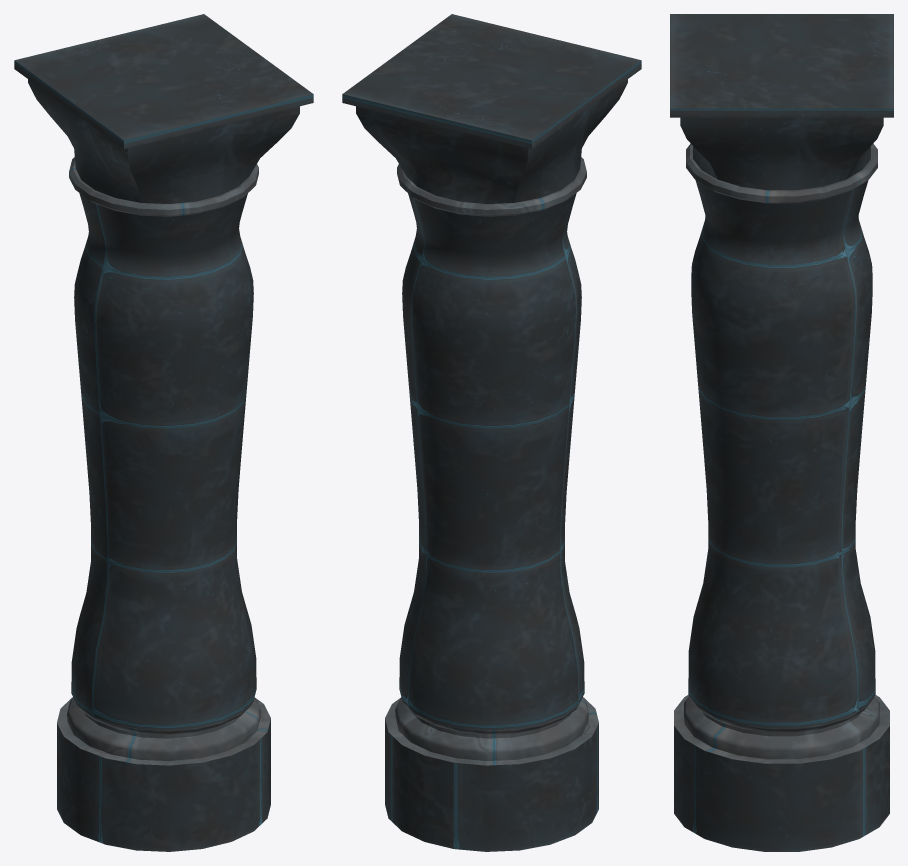
Rendered from Cathedral_Pillar_Short_1.fbx.
3 renders of one model, left to right at view 1: azimuth 30°, elevation 25°; view 2: azimuth 150°, elevation 25°; view 3: azimuth 270°, elevation 25°, orthographic. The views are drawn at different scales.
Parts seen in each view (by area): view 1: Pillar_Short_2; view 2: Pillar_Short_2; view 3: Pillar_Short_2.
Part boxes in pixels (box(x1,y1,x2,y2)): Pillar_Short_2: box(14, 14, 313, 851); Pillar_Short_2: box(342, 14, 641, 851); Pillar_Short_2: box(670, 14, 893, 851).
Bounding box in the file's own units: 208 × 762 × 208.
1 material, 1 textured.
